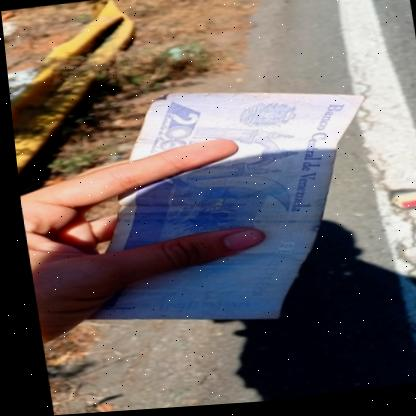ten-back-vef: (49, 75, 389, 342)
